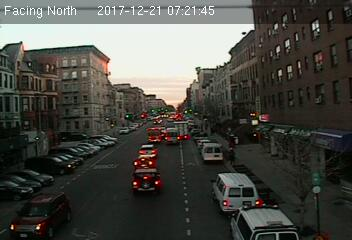car: (7, 190, 73, 240), (131, 168, 160, 194), (138, 143, 159, 159), (133, 156, 153, 169)
police: (230, 201, 300, 240)
truck: (202, 142, 223, 162), (163, 127, 180, 147), (172, 121, 189, 141), (146, 126, 163, 144)
